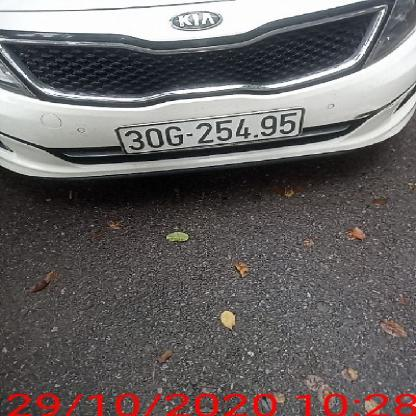biensoxe: (112, 108, 303, 155)
